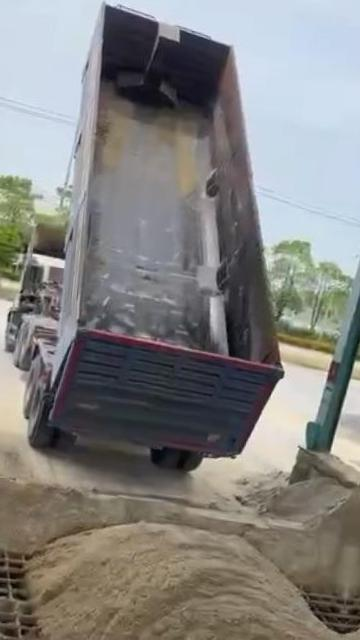sand: (0, 442, 357, 593), (29, 522, 341, 640), (0, 584, 20, 613)
